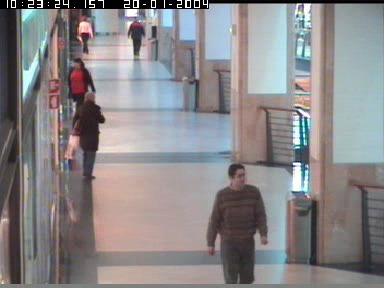person: (206, 164, 268, 283), (63, 91, 105, 180), (67, 58, 95, 122), (128, 16, 145, 58), (77, 15, 93, 56), (148, 9, 159, 39)
